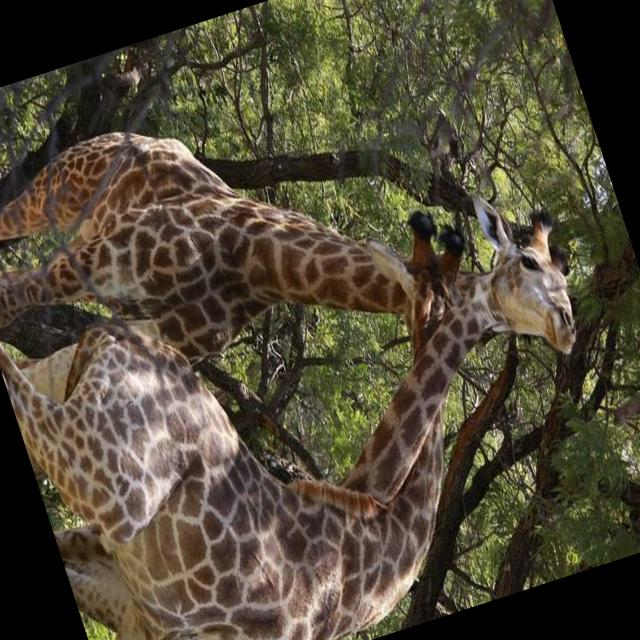giraffe: (0, 11, 588, 519), (0, 151, 599, 640)
